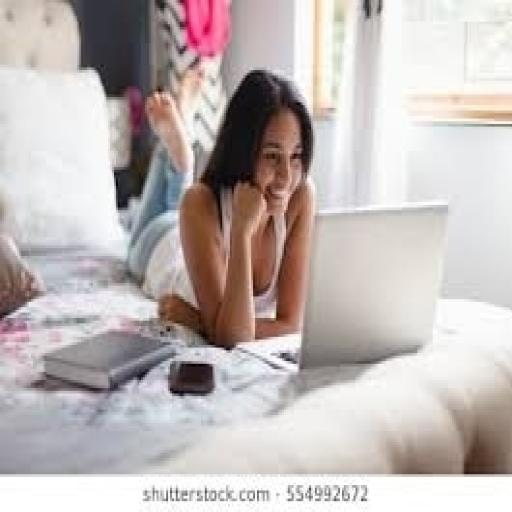using_laptop: (232, 196, 450, 374)
